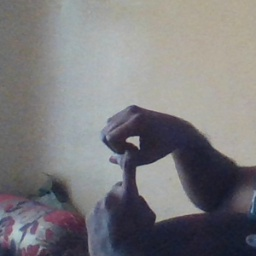Q: (87, 102, 185, 238)
